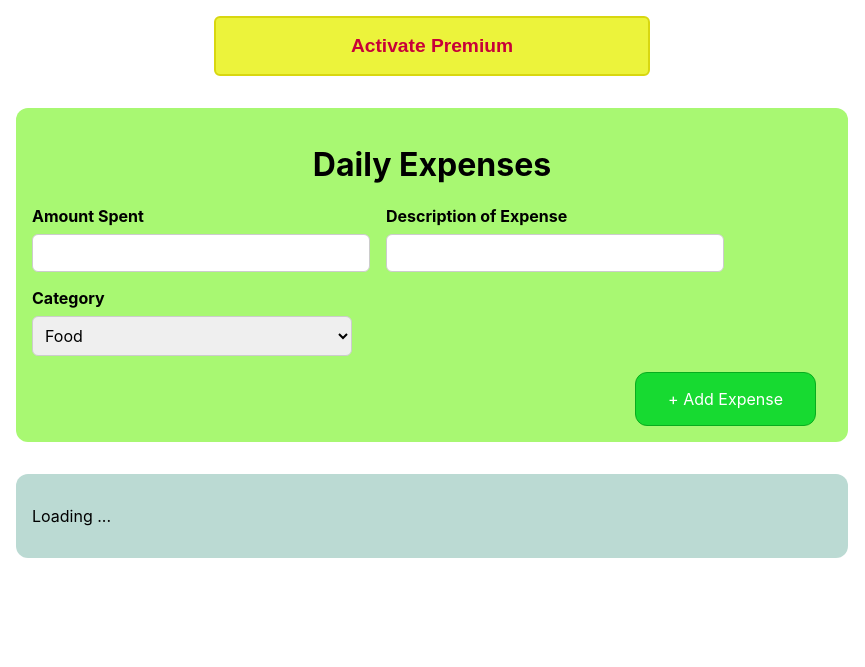
Scenario: Expenses component › renders Download PDF as a button if Activate Premium button was clicked
Step 1. Click the button "Activate Premium" → (432, 46), box [345,34,519,58]
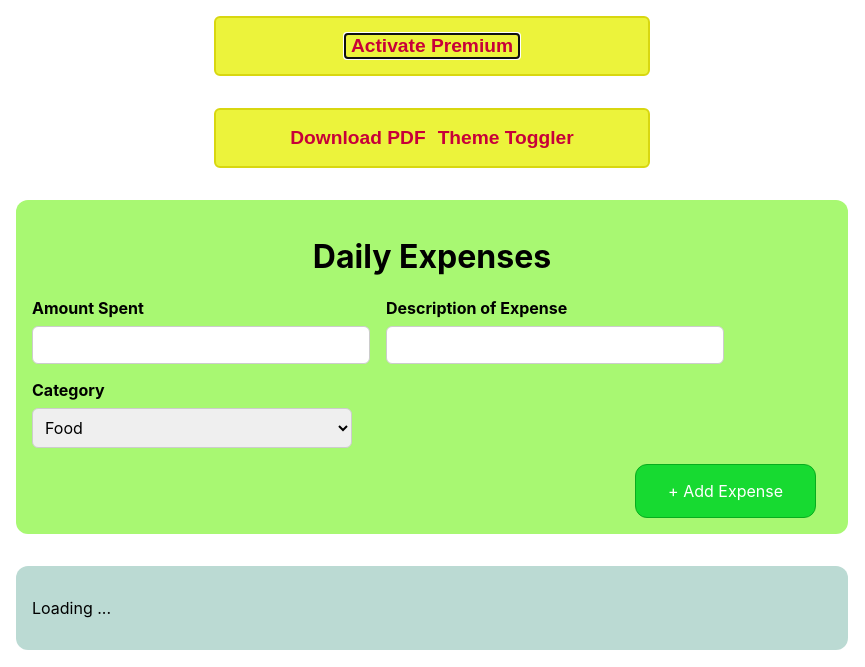
Expected: the button "Download PDF" is shown, [284,126,432,150]
